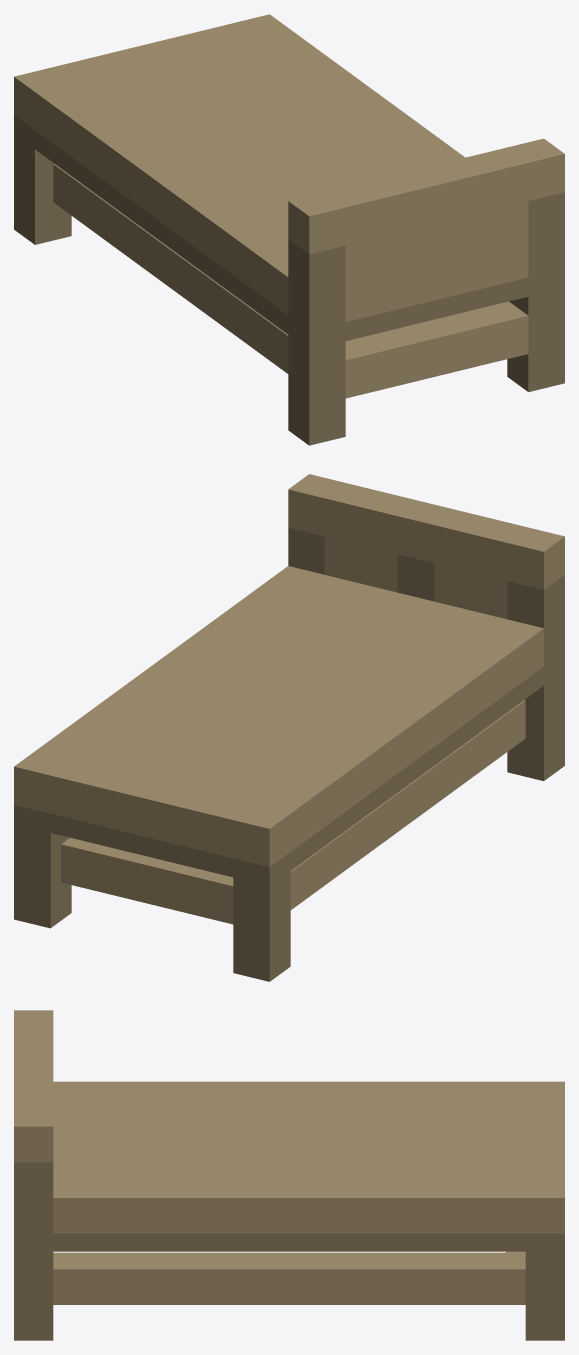
Rendered from banco_carpintero_01.glb.
The picture shows the model from 3 angles, top to bottom: view 1: azimuth 30°, elevation 25°; view 2: azimuth 150°, elevation 25°; view 3: azimuth 270°, elevation 25°; orthographic projection. The views are drawn at different scales.
Visible parts, largest first — view 1: banco_carpintero; view 2: banco_carpintero; view 3: banco_carpintero.
Boxes of the visible parts, box(x1,y1,x2,y2) form: banco_carpintero: box(14, 14, 564, 445); banco_carpintero: box(14, 474, 564, 981); banco_carpintero: box(14, 1010, 564, 1340).
Bounding box in the file's own units: 1 × 0.8571 × 2.
